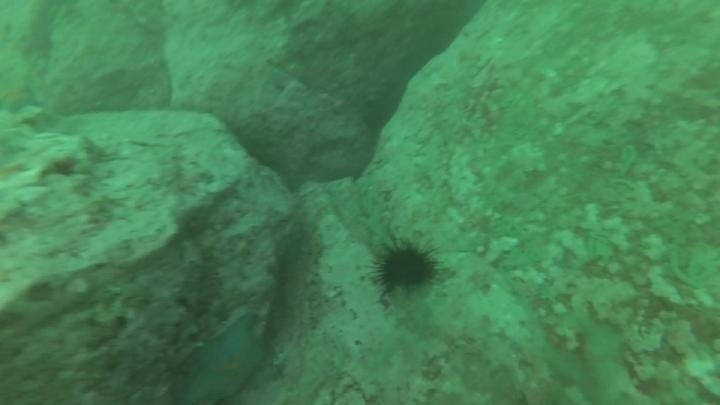echinus: (369, 235, 443, 297)
holothurian: (358, 180, 398, 252)
starfish: (178, 308, 270, 405), (0, 81, 45, 117)
